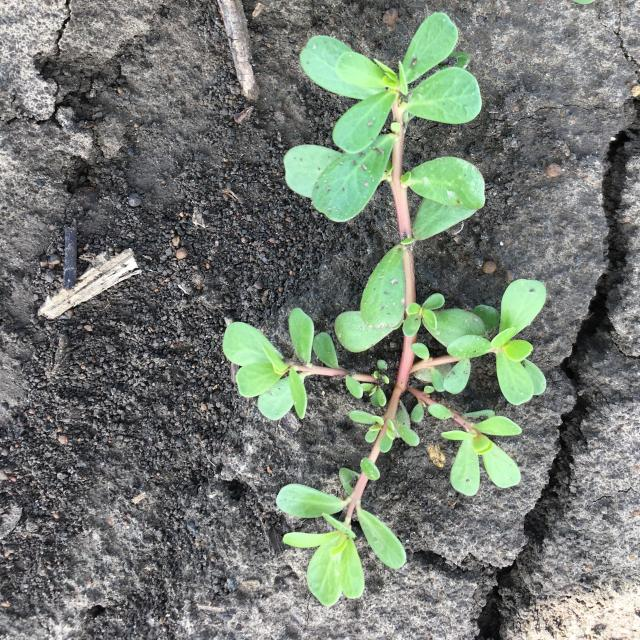Purslane: (222, 12, 547, 606)
